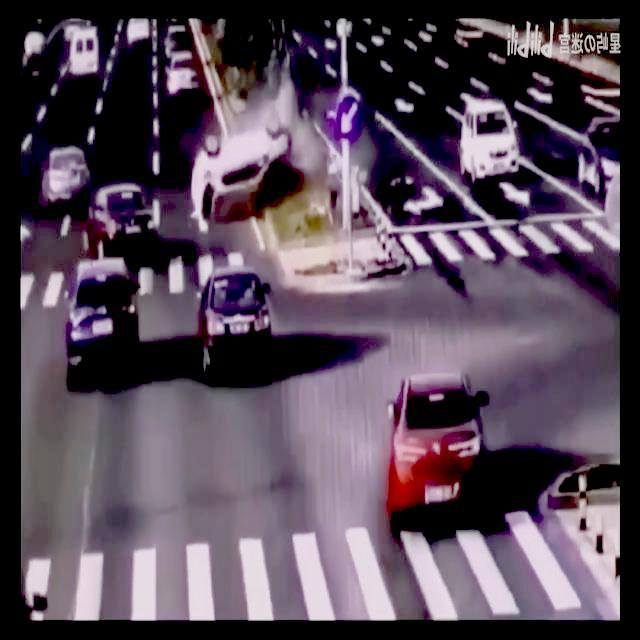accident: (191, 102, 341, 228)
non-accident: (67, 181, 157, 385), (42, 146, 156, 260), (164, 26, 202, 102)
